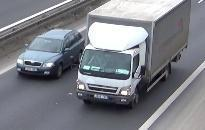car: (17, 32, 81, 79)
truck: (76, 0, 190, 108)
